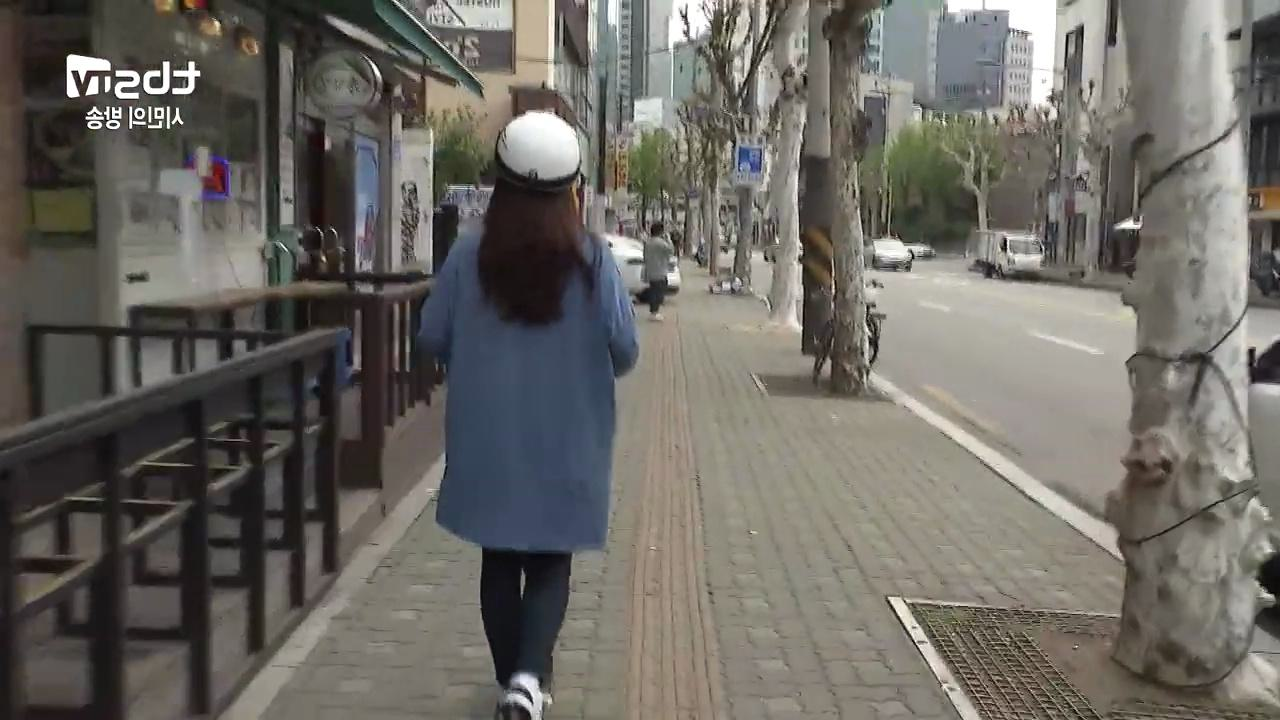helmet: (413, 111, 641, 720)
